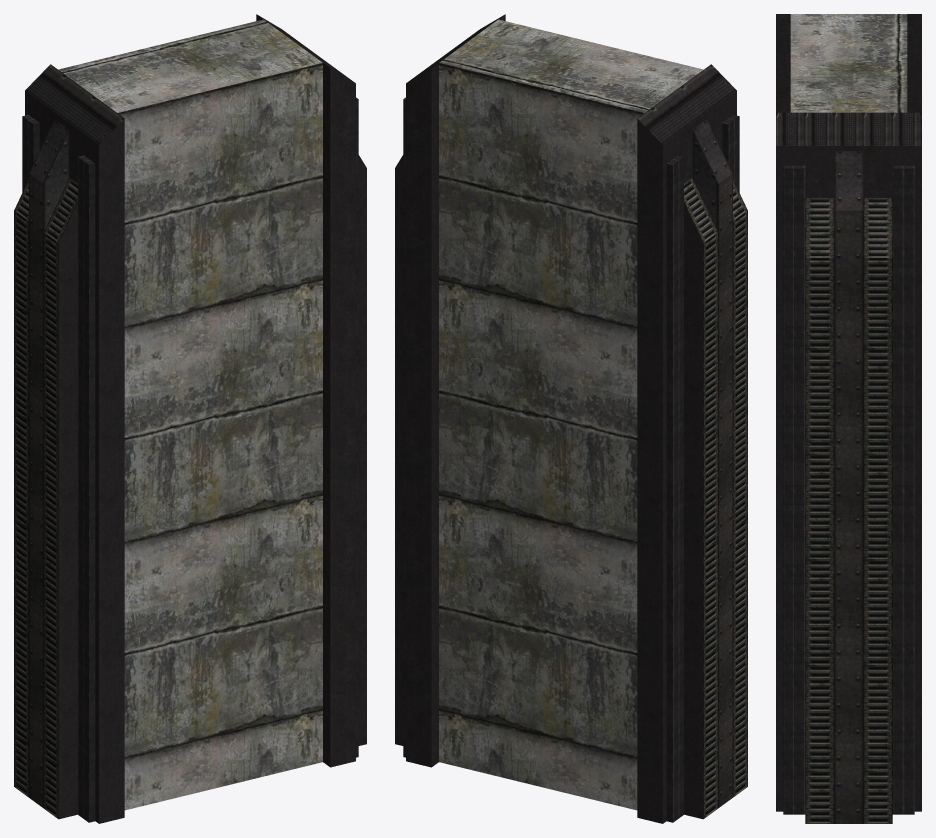
File: bridgewall1_base.fbx
The picture shows the model from 3 angles, left to right: view 1: azimuth 30°, elevation 25°; view 2: azimuth 150°, elevation 25°; view 3: azimuth 270°, elevation 25°; orthographic projection.
Visible parts, largest first — view 1: Object; view 2: Object; view 3: Object.
Part boxes in pixels (x1=…): Object: x1=14, y1=14, x2=366, y2=823; Object: x1=395, y1=14, x2=747, y2=823; Object: x1=776, y1=14, x2=921, y2=823.
Size of the model in its own units: 2400 by 5200 by 1000.
